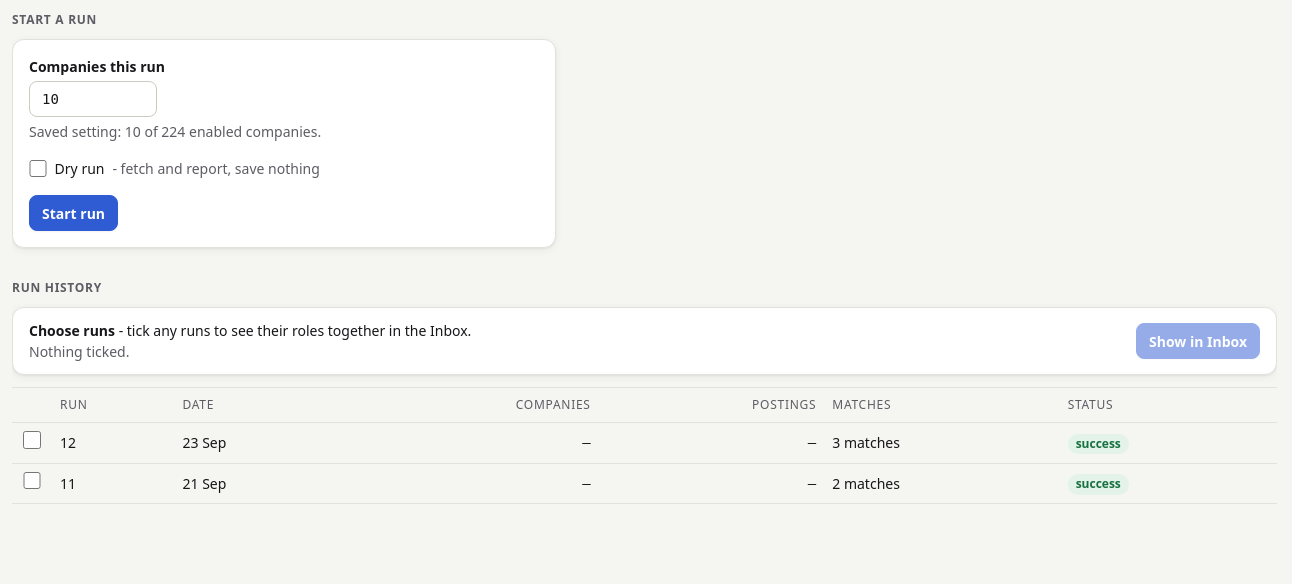
Scenario: Runs tab: jobs it cannot control › a 409 on cancel after the job ended just says nothing is running
The width and height of the screenshot is (1292, 584).
Step 1. Submit the form with class "start", box x1=12 y1=39 x2=556 y2=248
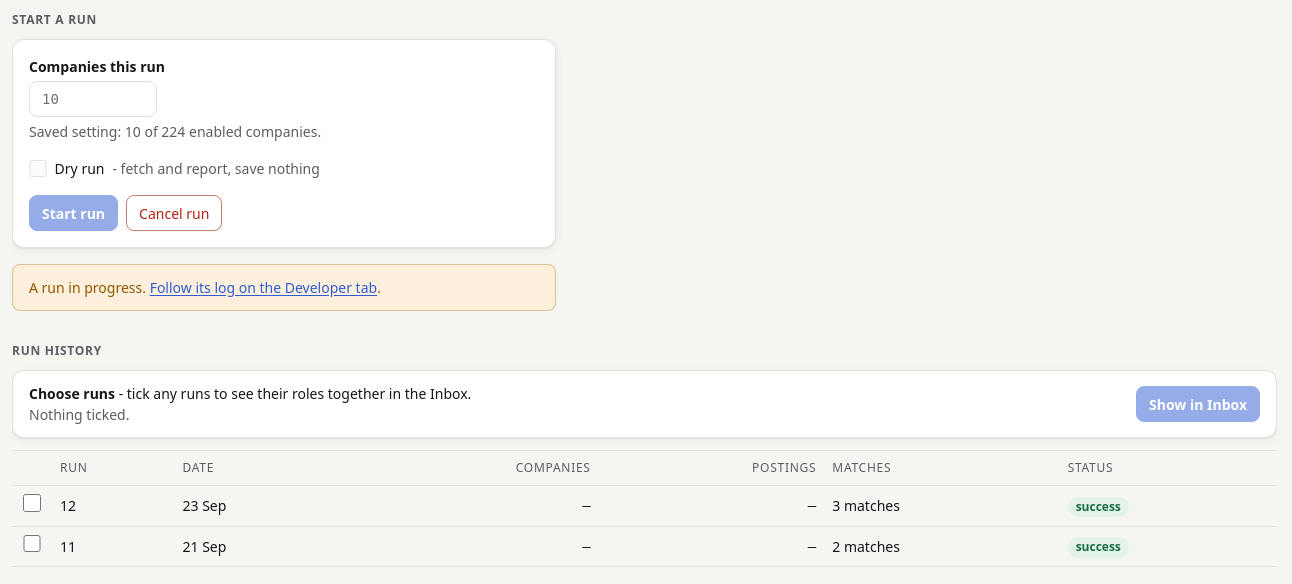
Step 2. Click the button with class "cancel" → point(174, 213), box x1=126 y1=195 x2=222 y2=231
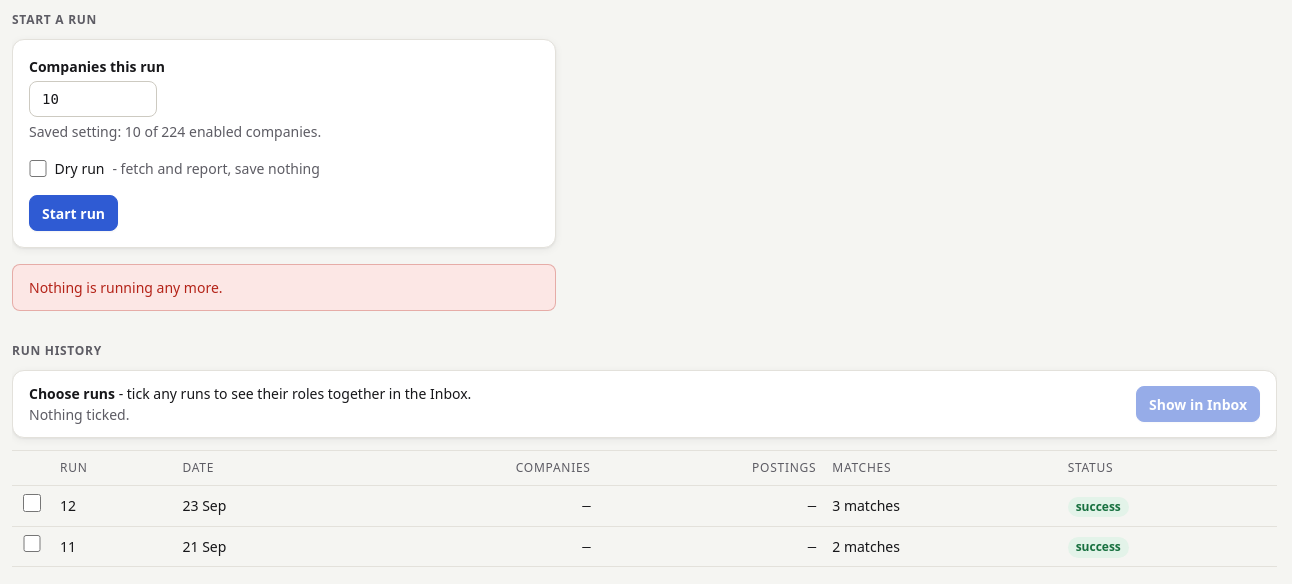
Result: the message "Nothing is running any more." is shown at x1=12 y1=264 x2=556 y2=311
